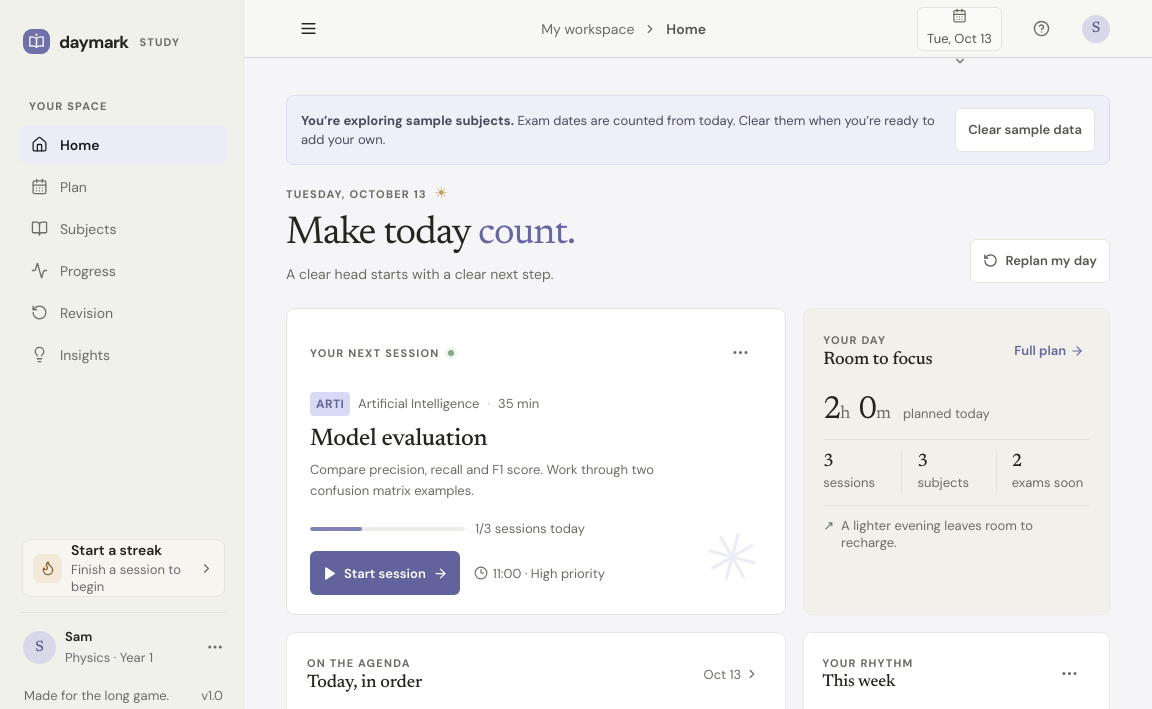
Test: calendar on touch screens › lets finished sessions be inspected but not restarted
Click the button "Plan" at coordinates (124, 186), box [20,167,227,206]
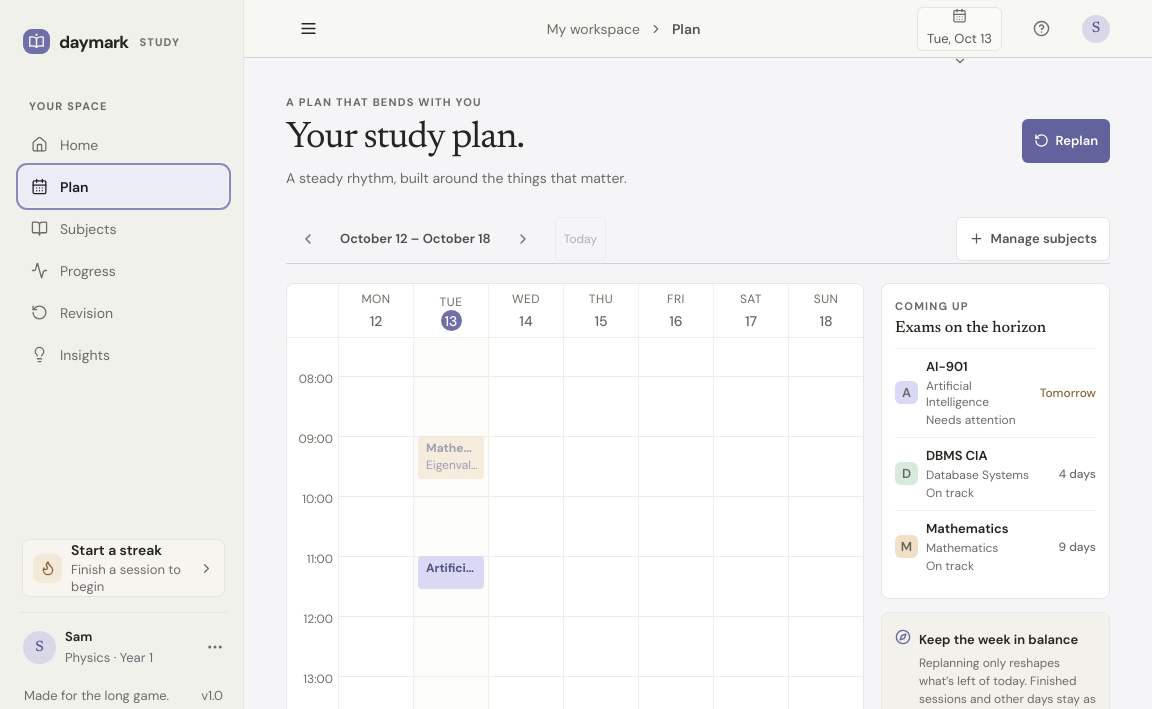
Now the number of elements with class "calendar-column" is 7
Click the button "Mathematics Eigenvalues & eigenvectors" at coordinates (451, 457), box [418,436,484,479]
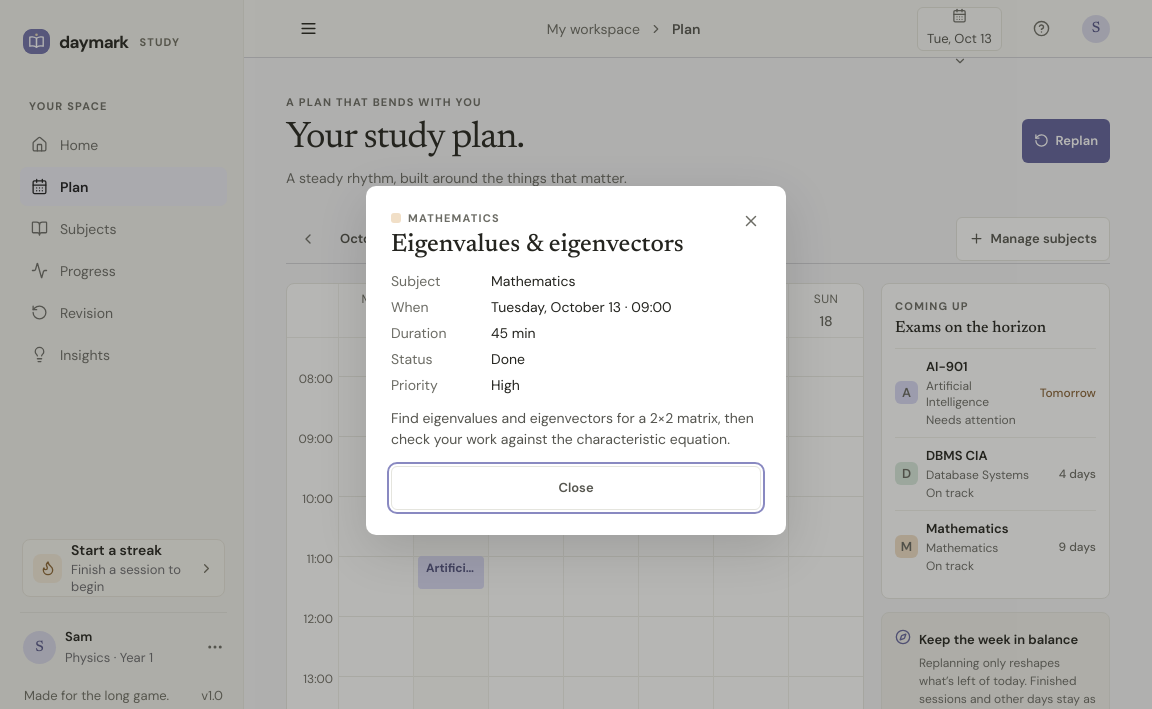
Expected: the button "Start session" is not shown
Now the dialog "Eigenvalues & eigenvectors" shows "Done", box [491,350,525,368]
